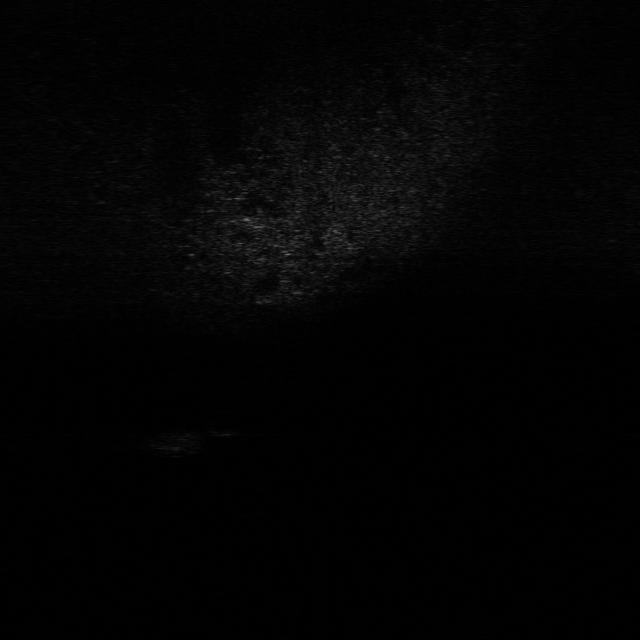ball: (206, 413, 242, 439)
circle cage: (143, 426, 207, 460)
